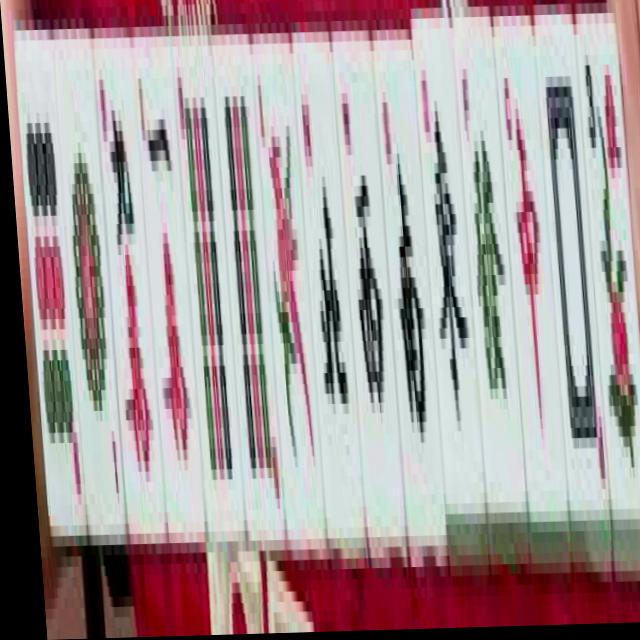bai: (537, 29, 608, 501)
east: (414, 41, 481, 474)
f3: (579, 31, 640, 486)
fa: (459, 55, 523, 485)
m5: (134, 69, 206, 532)
m9: (95, 57, 164, 524)
north: (294, 48, 364, 523)
s1: (253, 49, 323, 531)
s9: (176, 57, 244, 528), (216, 62, 283, 527)
south: (377, 71, 440, 492)
t1: (56, 63, 124, 511)
t9: (18, 73, 86, 530)
west: (337, 69, 403, 523)
zhong: (495, 39, 565, 499)
